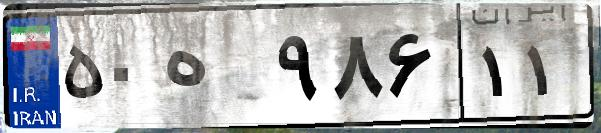0: (110, 28, 158, 98)
1: (475, 38, 525, 113), (525, 38, 570, 115)
5: (57, 26, 110, 100)
6: (385, 28, 445, 110)
8: (330, 28, 385, 110)
9: (270, 28, 330, 110)
ه: (158, 20, 270, 120)
